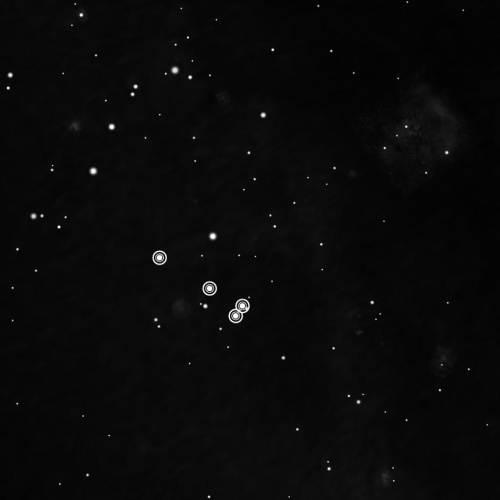sagitta: (146, 244, 256, 329)
